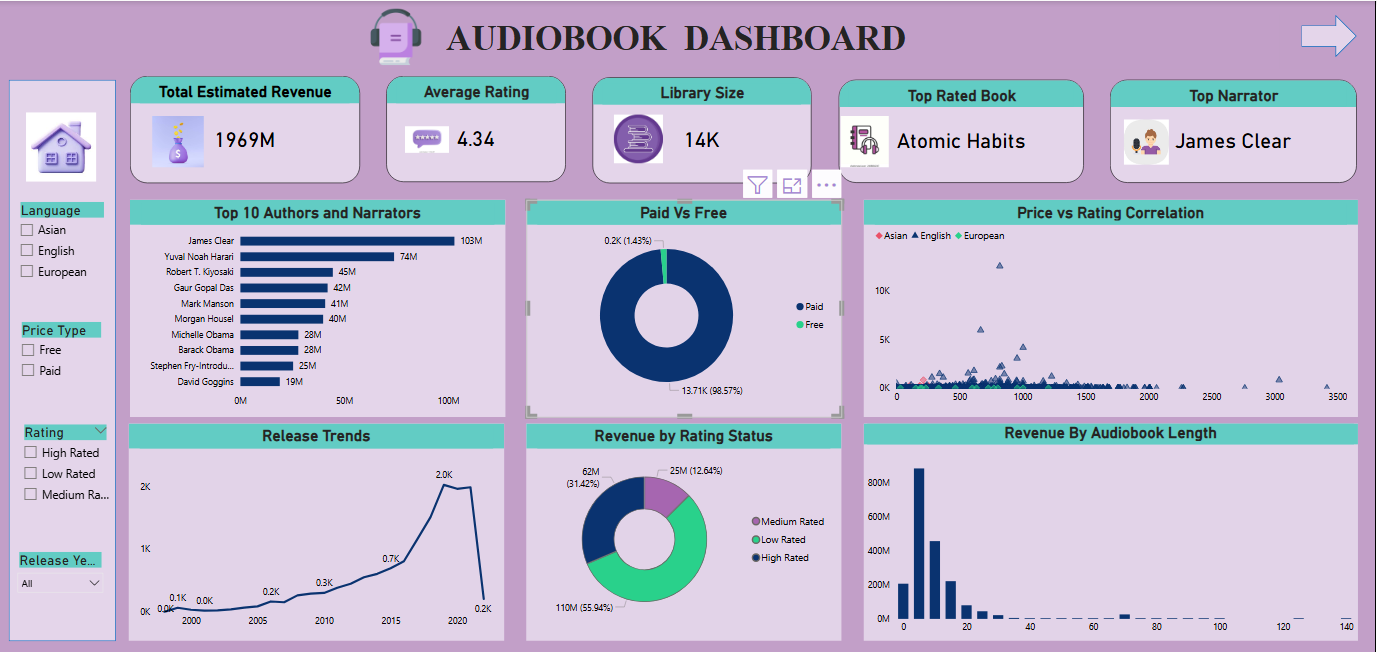

The dashboard page shown, as its layout file describes it:
{"tool":"powerbi","page":{"name":"Audiobook Overview","canvas":[1900,900],"ordinal":0},"visuals":[{"type":"shape","box":[12.5,108.7,147.9,775.3],"z":0},{"type":"textbox","box":[99.8,19.6,1666.5,74.9],"z":1000},{"type":"card","title":"Total Estimated Revenue","fields":{"Values":["Sum(audible_cleaned1.Estimated Revenue)"]},"box":[180,103.4,317.3,147.9],"z":2000},{"type":"card","title":"Average Rating","fields":{"Values":["Avg(audible_cleaned1.Average Rating)"]},"box":[534,102.9,248,146],"z":3000},{"type":"card","title":"Library Size","fields":{"Values":["audible_cleaned1.Total_Books"]},"box":[818.7,104.9,302,146],"z":4000},{"type":"barChart","title":"Top 10 Authors and Narrators","fields":{"Y":["Sum(audible_cleaned1.Estimated Revenue)"],"Category":["audible_cleaned1.Author","audible_cleaned1.Narrator"]},"box":[180,274,518,300],"z":5000},{"type":"scatterChart","title":"Price vs Rating Correlation","fields":{"X":["Avg(audible_cleaned1.Price)"],"Y":["Avg(audible_cleaned1.Total Rating)"],"Category":["audible_cleaned1.Author"],"Series":["audible_cleaned1.Language (groups)"]},"box":[1192,274,682,300],"z":6000},{"type":"lineChart","title":"Release Trends","fields":{"Category":["audible_cleaned1.Release Date.Variation.Date Hierarchy.Year","audible_cleaned1.Release Date.Variation.Date Hierarchy.Quarter","audible_cleaned1.Release Date.Variation.Date Hierarchy.Month","audible_cleaned1.Release Date.Variation.Date Hierarchy.Day"],"Y":["CountNonNull(audible_cleaned1.Audiobook Title)"]},"box":[178,584,518,300],"z":7000},{"type":"clusteredColumnChart","title":"Revenue By Audiobook Length","fields":{"Category":["audible_cleaned1.Duration (bins)"],"Y":["Sum(audible_cleaned1.Estimated Revenue)"]},"box":[1192,584,682,300],"z":8000},{"type":"donutChart","title":" Revenue by Rating Status","fields":{"Category":["audible_cleaned1.Rating Status"],"Y":["Sum(audible_cleaned1.Minimum Revenue)"]},"box":[726.5,584,435,300],"z":9000},{"type":"slicer","fields":{"Values":["audible_cleaned1.Language (groups)"]},"box":[16,272.7,140.8,149.7],"z":10000},{"type":"slicer","fields":{"Values":["audible_cleaned1.Price Type"]},"box":[17.8,439.1,135.5,124.8],"z":11000},{"type":"slicer","fields":{"Values":["audible_cleaned1.Rating Status"]},"box":[21.4,580.5,139,158.6],"z":12000},{"type":"slicer","fields":{"Values":["audible_cleaned1.Release Date.Variation.Date Hierarchy.Year"]},"box":[14.3,755.7,139,108.7],"z":13000},{"type":"card","title":"Top Rated Book","fields":{"Values":["audible_cleaned1.top_Book"]},"box":[1157.5,108.7,338.6,142.6],"z":14000},{"type":"card","title":"Top Narrator","fields":{"Values":["audible_cleaned1.top_Narrator"]},"box":[1532.8,108.7,340.4,142.6],"z":15000},{"type":"donutChart","title":"Paid Vs Free","fields":{"Category":["audible_cleaned1.Price Type"],"Y":["CountNonNull(audible_cleaned1.Audiobook Title)"]},"box":[727.5,274,435,300],"z":16000},{"type":"image","box":[1552.4,158.6,62.4,71.3],"z":17000},{"type":"image","box":[1119.3,158.6,151.5,71.3],"z":18000},{"type":"image","box":[846.6,142.6,67.7,94.5],"z":19000},{"type":"image","box":[559.7,99.8,60.6,181.8],"z":20000},{"type":"image","box":[205,158.6,80.2,71.3],"z":21000},{"type":"image","box":[10.7,153.3,147.9,96.2],"z":22000},{"type":"shape","box":[1796.6,19.6,76.6,58.8],"z":23000},{"type":"image","box":[397.5,10.7,299.4,78.4],"z":24000}]}

Visuals, with their boxes in screenshot pixels (x1, y1, x2, y2), scaled from the page's 1900x900 canvas onto the 1377x652 screenshot:
shape: 9:79:116:640
textbox: 72:14:1280:68
"Total Estimated Revenue" card: 130:75:360:182
"Average Rating" card: 387:75:567:180
"Library Size" card: 593:76:812:182
"Top 10 Authors and Narrators" barChart: 130:198:506:416
"Price vs Rating Correlation" scatterChart: 864:198:1358:416
"Release Trends" lineChart: 129:423:504:640
"Revenue By Audiobook Length" clusteredColumnChart: 864:423:1358:640
" Revenue by Rating Status" donutChart: 527:423:842:640
slicer - audible_cleaned1.Language (groups): 12:198:114:306
slicer - audible_cleaned1.Price Type: 13:318:111:409
slicer - audible_cleaned1.Rating Status: 16:421:116:535
slicer - audible_cleaned1.Release Date.Variation.Date Hierarchy.Year: 10:547:111:626
"Top Rated Book" card: 839:79:1084:182
"Top Narrator" card: 1111:79:1358:182
"Paid Vs Free" donutChart: 527:198:843:416
image: 1125:115:1170:167
image: 811:115:921:167
image: 614:103:663:172
image: 406:72:450:204
image: 149:115:207:167
image: 8:111:115:181
shape: 1302:14:1358:57
image: 288:8:505:65
